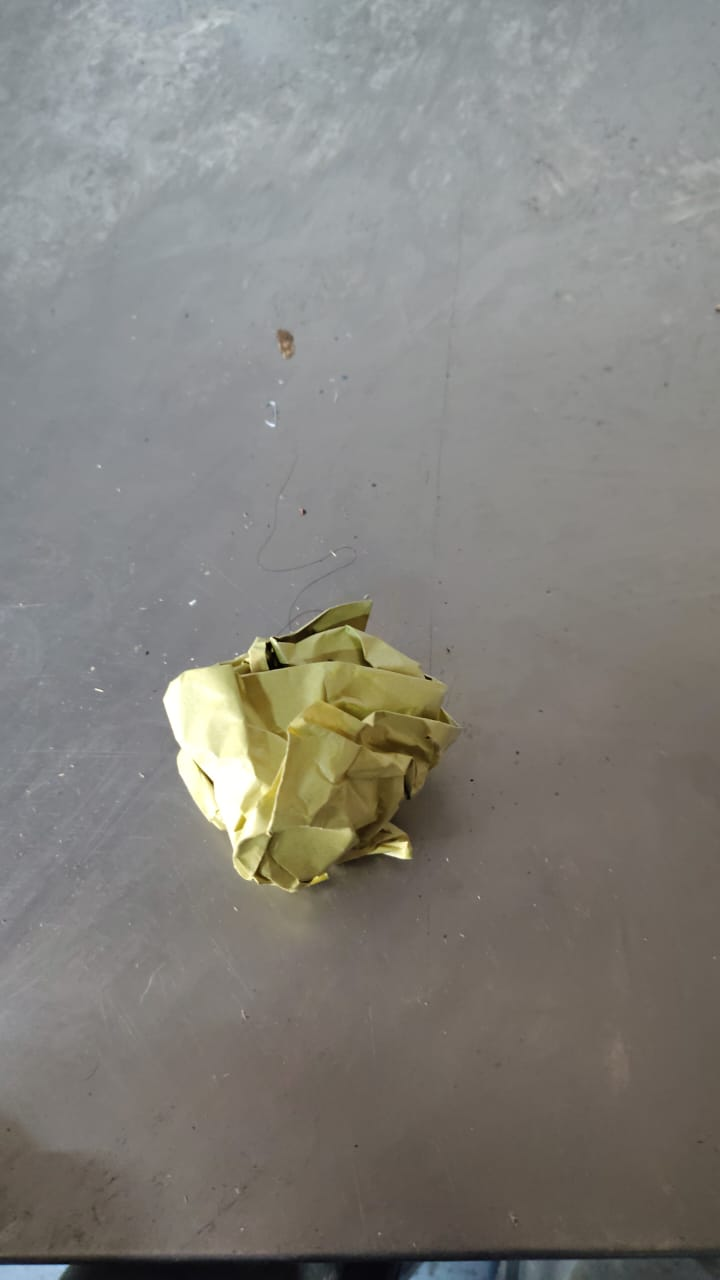Papel: (159, 591, 464, 896)
